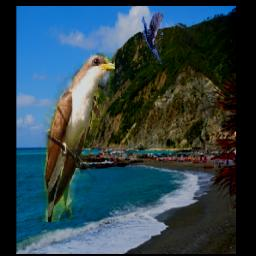Cuckoo: (40, 53, 115, 223)
Swallow: (143, 12, 164, 65)
